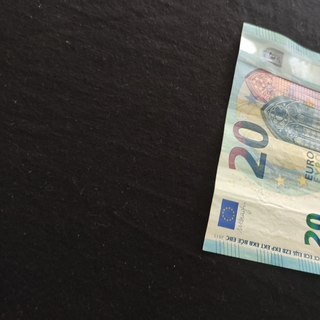20EUROFront: (201, 21, 320, 278)
